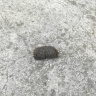Dog: (33, 46, 59, 60)
